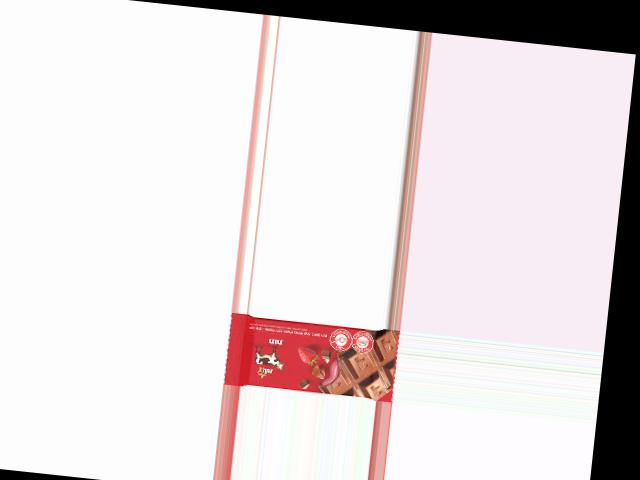chocolate: (222, 311, 398, 401)
